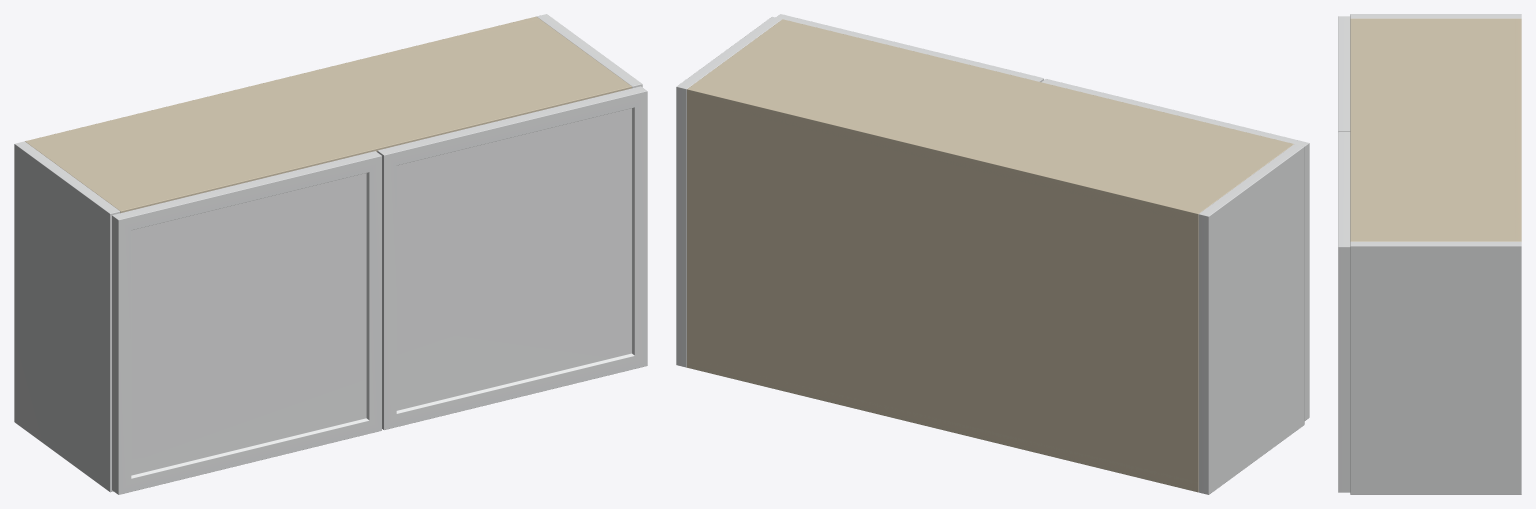
Rendered from oppein-ply-ssw-w3618.glb.
3 views of the same model, side by side, from view 1: azimuth 30°, elevation 25°; view 2: azimuth 150°, elevation 25°; view 3: azimuth 270°, elevation 25° (orthographic). The views are drawn at different scales.
Parts seen in each view (by area): view 1: Door, Door.001, Cabinet top, Cabinet side, Cabinet back, Cabinet side.001; view 2: Cabinet back, Cabinet top, Cabinet side, Cabinet side.001, Cabinet bottom, Door, Door.001; view 3: Cabinet side.001, Cabinet top, Door.001, Cabinet back, Door, Cabinet side.
Boxes of the visible parts, box(x1,y1,x2,y2) form: Door: box(112, 151, 381, 494); Door.001: box(377, 86, 647, 429); Cabinet top: box(26, 17, 631, 212); Cabinet side: box(14, 141, 120, 492); Cabinet back: box(25, 16, 539, 143); Cabinet side.001: box(536, 14, 642, 88); Cabinet back: box(687, 86, 1201, 492); Cabinet top: box(687, 19, 1293, 224); Cabinet side: box(1198, 144, 1304, 494); Cabinet side.001: box(676, 16, 782, 367); Cabinet bottom: box(687, 357, 1197, 491); Door: box(1041, 79, 1309, 420); Door.001: box(776, 14, 1043, 81); Cabinet side.001: box(1350, 241, 1521, 494); Cabinet top: box(1350, 18, 1521, 241); Door.001: box(1338, 132, 1350, 492); Cabinet back: box(1514, 18, 1521, 241); Door: box(1338, 16, 1350, 131); Cabinet side: box(1350, 14, 1521, 18).
Size of the model in its own units: 0.9144 by 0.4572 by 0.3048.
